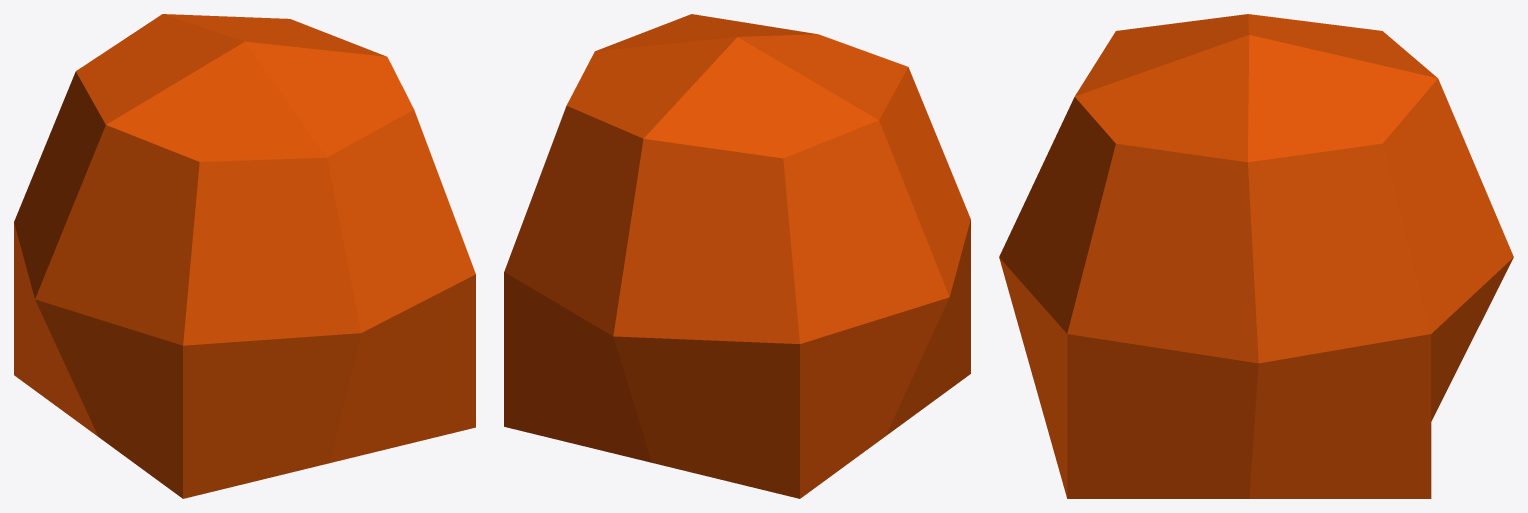
The model's file is tree-autumn-leaves-012.glb.
3 renders of one model, left to right at view 1: azimuth 30°, elevation 25°; view 2: azimuth 150°, elevation 25°; view 3: azimuth 270°, elevation 25°, orthographic. The views are drawn at different scales.
Parts seen in each view (by area): view 1: Cube.041_339; view 2: Cube.041_339; view 3: Cube.041_339.
Boxes of the visible parts, box(x1,y1,x2,y2) form: Cube.041_339: box(14, 14, 475, 498); Cube.041_339: box(504, 14, 970, 498); Cube.041_339: box(999, 14, 1513, 498).
Size of the model in its own units: 0.7027 by 0.6085 by 0.7332.
